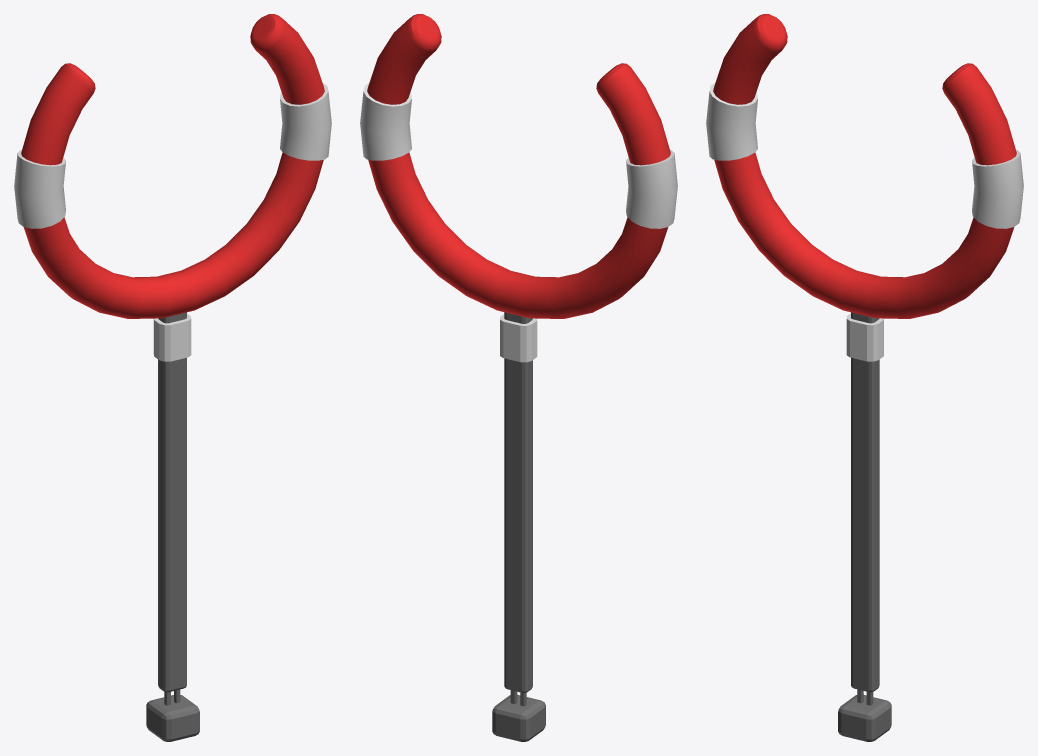
3 views of the same model, side by side, from view 1: azimuth 30°, elevation 25°; view 2: azimuth 150°, elevation 25°; view 3: azimuth 330°, elevation 25° (orthographic).
Visible parts, largest first — view 1: pTorus1, pCube38; view 2: pTorus1, pCube38; view 3: pTorus1, pCube38.
Part boxes in pixels (box(x1,y1,x2,y2)): pTorus1: box(14, 14, 331, 318); pCube38: box(146, 312, 199, 741); pTorus1: box(360, 14, 677, 318); pCube38: box(492, 312, 545, 741); pTorus1: box(706, 14, 1023, 318); pCube38: box(838, 312, 891, 741).
Size of the model in its own units: 8.47 by 18.05 by 1.17.
